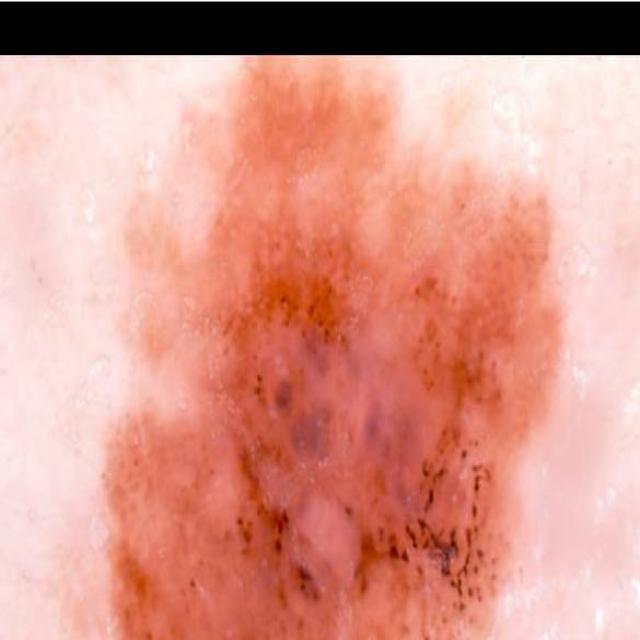Melanoma: (97, 55, 611, 640)
